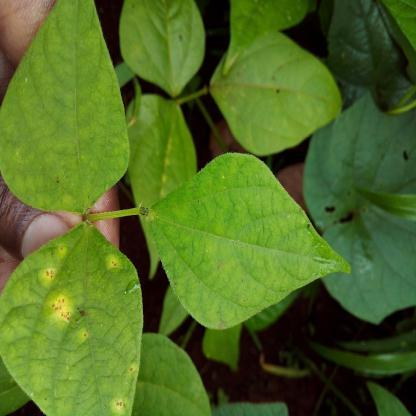Beans_Rust: (0, 224, 144, 415)
